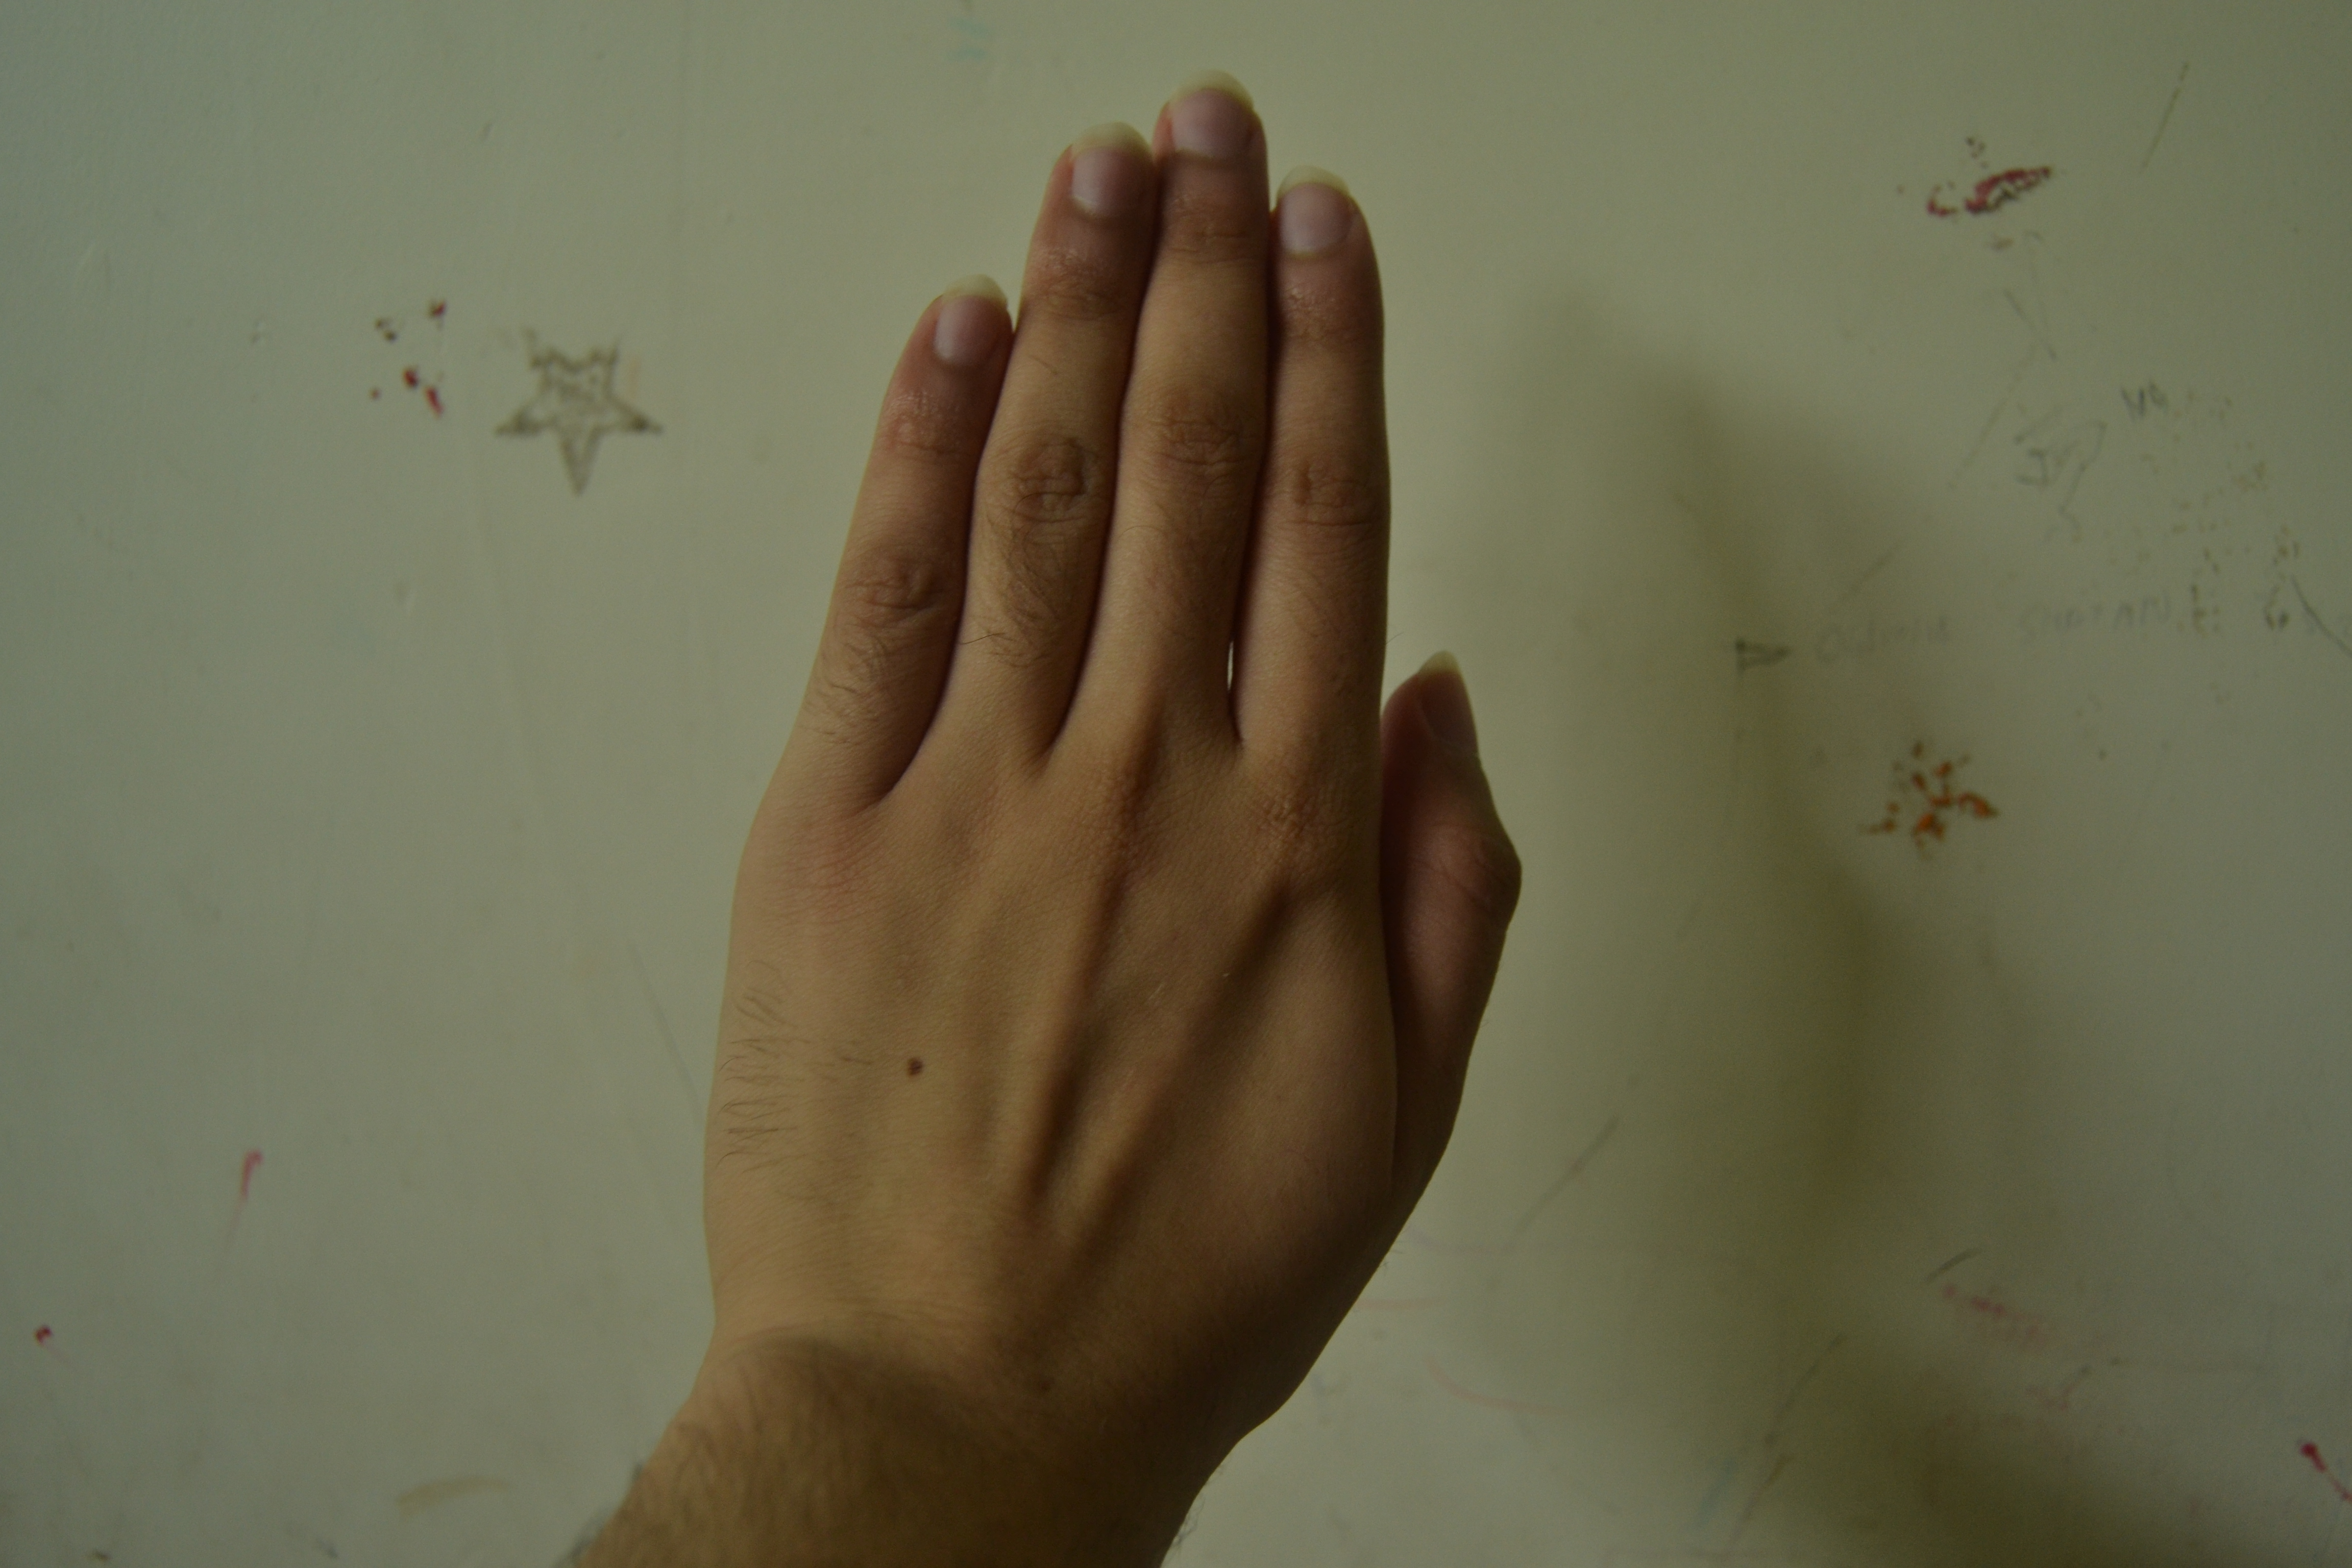move: (726, 63, 1634, 1468)
